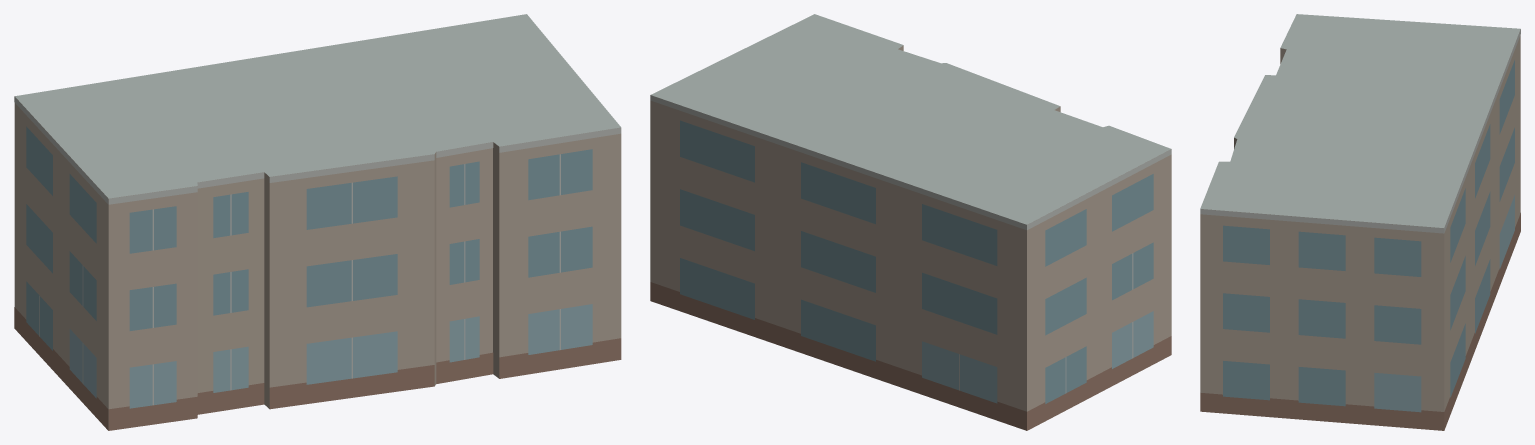
The model's file is survey-upis-32667487.glb.
The picture shows the model from 3 angles, left to right: view 1: azimuth 30°, elevation 25°; view 2: azimuth 150°, elevation 25°; view 3: azimuth 270°, elevation 25°; orthographic projection. The views are drawn at different scales.
Visible parts, largest first — view 1: survey-upis-32667487.tmp; view 2: survey-upis-32667487.tmp; view 3: survey-upis-32667487.tmp.
Boxes of the visible parts, bbox=[...] form: survey-upis-32667487.tmp: bbox=[14, 14, 621, 430]; survey-upis-32667487.tmp: bbox=[650, 14, 1171, 430]; survey-upis-32667487.tmp: bbox=[1200, 14, 1520, 430].
Bounding box in the file's own units: 20.74 × 9.15 × 13.13.
